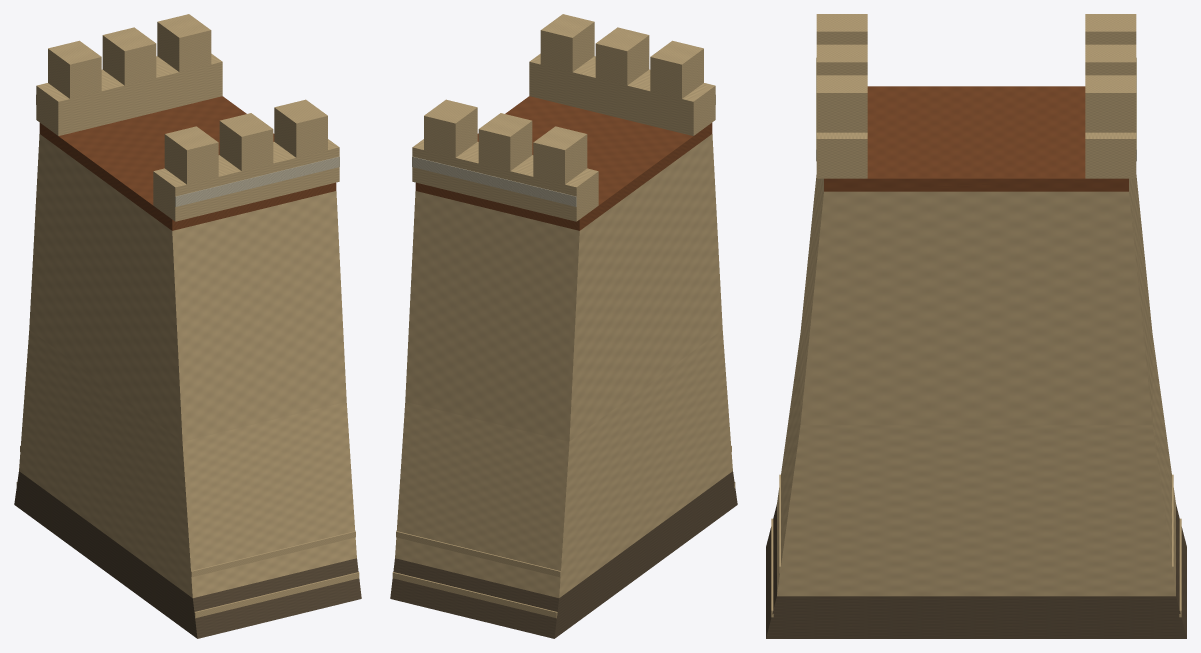
File: Berber_Wall_Age3_straight_3m.fbx
The picture shows the model from 3 angles, left to right: view 1: azimuth 30°, elevation 25°; view 2: azimuth 150°, elevation 25°; view 3: azimuth 270°, elevation 25°; orthographic projection. The views are drawn at different scales.
Visible parts, largest first — view 1: straight_3m_rammed_curtain_upper, straight_3m_rammed_curtain_lower, straight_3m_battered_stone_foot, straight_3m_walk_deck, straight_3m_parapet.001, straight_3m_parapet, straight_3m_merlon, straight_3m_merlon.001, straight_3m_merlon.003, straight_3m_merlon.004, straight_3m_merlon.002, straight_3m_merlon.005 (+4 smaller); view 2: straight_3m_rammed_curtain_upper, straight_3m_rammed_curtain_lower, straight_3m_battered_stone_foot, straight_3m_walk_deck, straight_3m_parapet, straight_3m_parapet.001, straight_3m_merlon.004, straight_3m_merlon.003, straight_3m_merlon, straight_3m_merlon.005, straight_3m_merlon.002, straight_3m_merlon.001 (+4 smaller); view 3: straight_3m_rammed_curtain_upper, straight_3m_rammed_curtain_lower, straight_3m_walk_deck, straight_3m_battered_stone_foot, straight_3m_merlon.005, straight_3m_merlon.002, straight_3m_parapet.001, straight_3m_parapet, straight_3m_merlon.004, straight_3m_merlon.001, straight_3m_merlon, straight_3m_merlon.003.
Boxes of the visible parts, x1,y1,x2,y2 form: straight_3m_rammed_curtain_upper: (29,134,346,441); straight_3m_rammed_curtain_lower: (19,330,356,597); straight_3m_battered_stone_foot: (14,471,361,638); straight_3m_walk_deck: (39,96,336,230); straight_3m_parapet.001: (36,53,222,135); straight_3m_parapet: (153,139,339,221); straight_3m_merlon: (164,126,218,184); straight_3m_merlon.001: (219,113,273,170); straight_3m_merlon.003: (48,40,101,98); straight_3m_merlon.004: (102,27,156,85); straight_3m_merlon.002: (274,100,327,157); straight_3m_merlon.005: (157,14,211,72); straight_3m_rammed_curtain_upper: (405,134,722,441); straight_3m_rammed_curtain_lower: (395,330,732,597); straight_3m_battered_stone_foot: (390,471,737,638); straight_3m_walk_deck: (415,96,712,230); straight_3m_parapet: (529,53,715,135); straight_3m_parapet.001: (412,139,598,221); straight_3m_merlon.004: (478,113,532,170); straight_3m_merlon.003: (533,126,587,184); straight_3m_merlon: (650,40,703,98); straight_3m_merlon.005: (424,99,477,157); straight_3m_merlon.002: (540,14,594,72); straight_3m_merlon.001: (595,27,649,85); straight_3m_rammed_curtain_upper: (800,175,1152,425); straight_3m_rammed_curtain_lower: (777,335,1175,596); straight_3m_walk_deck: (824,86,1128,191); straight_3m_battered_stone_foot: (766,504,1186,638); straight_3m_merlon.005: (1085,75,1136,132); straight_3m_merlon.002: (816,75,867,132); straight_3m_parapet.001: (1085,132,1136,178); straight_3m_parapet: (816,132,867,178); straight_3m_merlon.004: (1085,44,1136,75); straight_3m_merlon.001: (816,44,867,75); straight_3m_merlon: (816,14,867,44); straight_3m_merlon.003: (1085,14,1136,44).
Bounding box in the file's own units: 300 × 820 × 580.
Materials: 4 (4 with a texture image).
